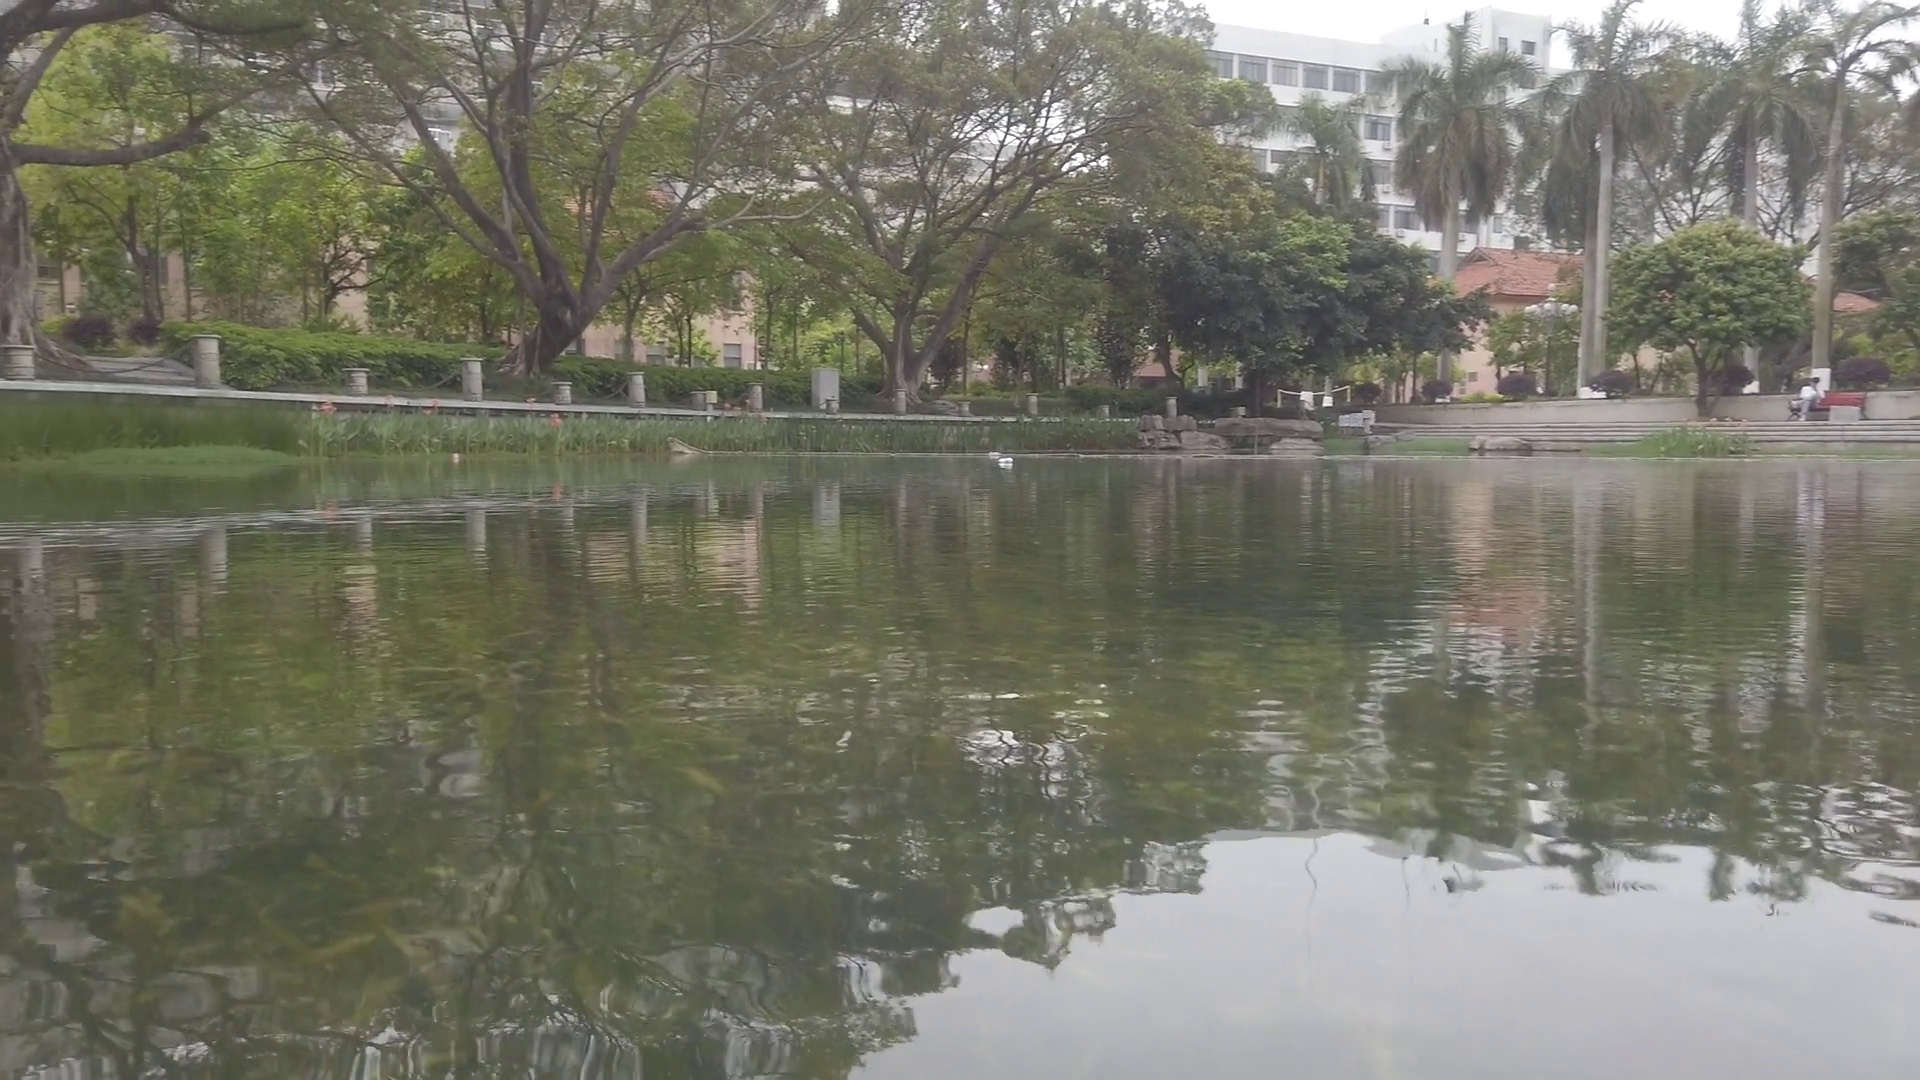bottle: (447, 450, 463, 462), (998, 458, 1015, 465), (990, 452, 1000, 458)
